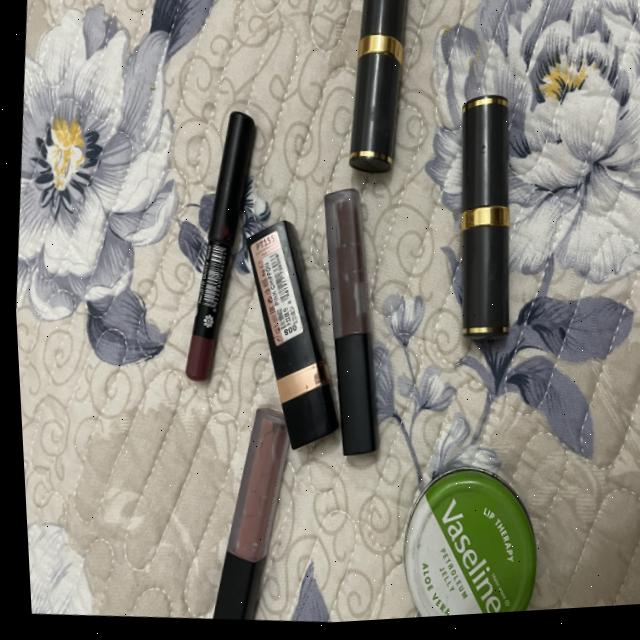lip balm: (382, 450, 557, 623)
lip gloss: (292, 179, 395, 473), (191, 395, 302, 627)
lip liner: (166, 103, 275, 387)
lip stick: (433, 91, 527, 355), (328, 0, 417, 175)
